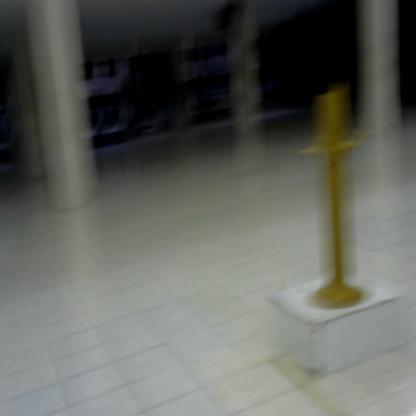pole: (293, 78, 375, 322)
